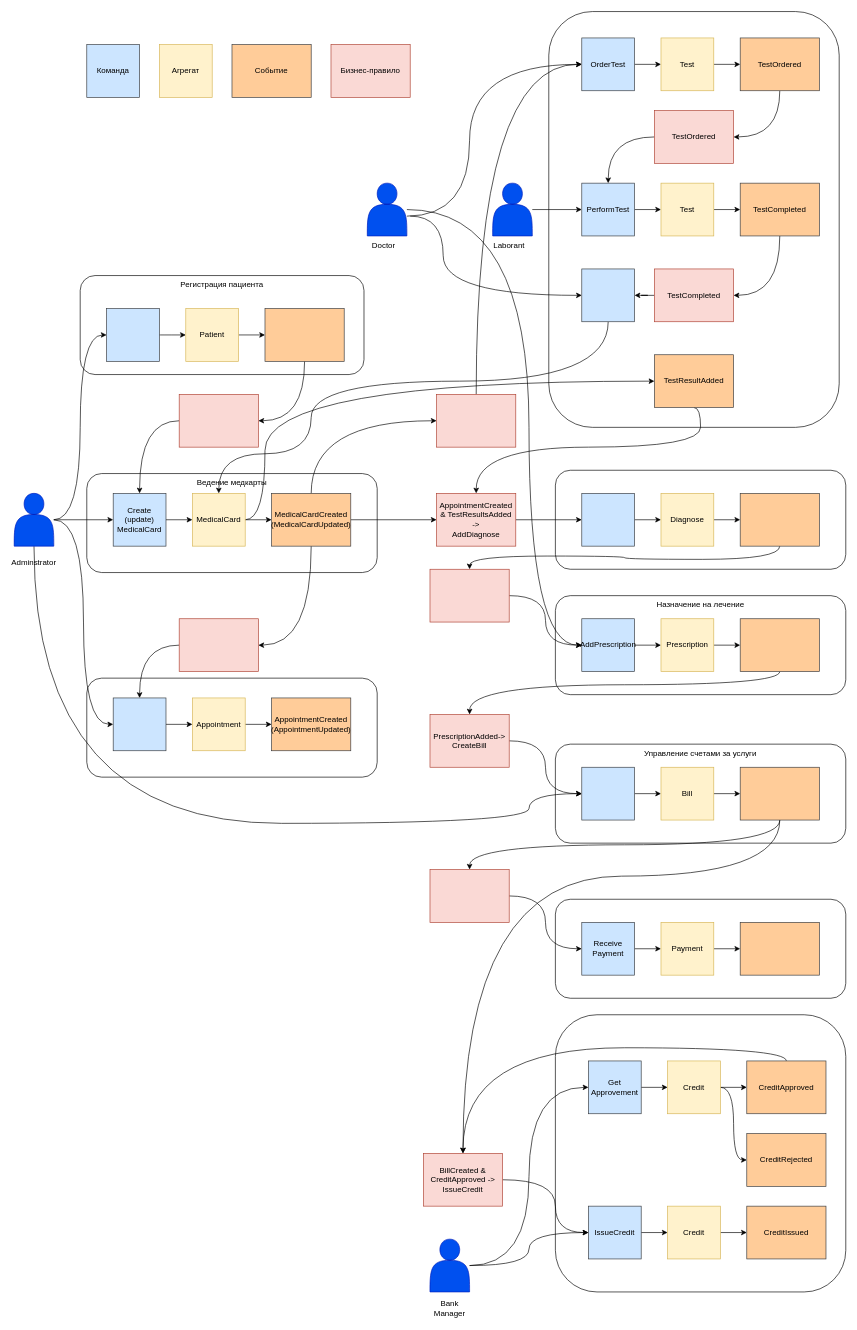
This 857x1330 diagram has some shape labels left out. The box of each missing label's shape, as (x1, y1, x2, y2) in pixels:
Add TestResults: (581, 268, 635, 322)
AddDiagnose: (581, 493, 635, 546)
AppointmentCreated -> OrderTest: (436, 394, 516, 447)
BillCreated: (740, 767, 819, 820)
BillCreated-> Receive Paymnet: (429, 869, 509, 922)
Create (update) Appointment: (113, 697, 166, 751)
CreateBill: (581, 767, 635, 820)
DiagnoseAdded (DiagnoseUpdated): (740, 493, 819, 546)
DiagnoseAdded -> AddPrescription: (429, 569, 509, 622)
MedicalCardCreated -> CreateAppointment: (179, 618, 258, 672)
PatientRegistered (PatientUpdated): (264, 308, 344, 361)
PatientRegistered -> CreateMedicalCard: (179, 394, 258, 447)
PaymentReceived: (740, 922, 819, 975)
PrescriptionAdded (PrescriptionUpdated): (740, 618, 819, 672)
Register (update) Patient: (106, 308, 159, 361)
Запись пациента: (86, 677, 377, 777)
Направление на анализы: (548, 11, 839, 427)
Постановка диагноза: (555, 470, 846, 569)
Управление оплатами: (555, 899, 846, 998)
Управление оформлением кредитов: (555, 1014, 846, 1292)
